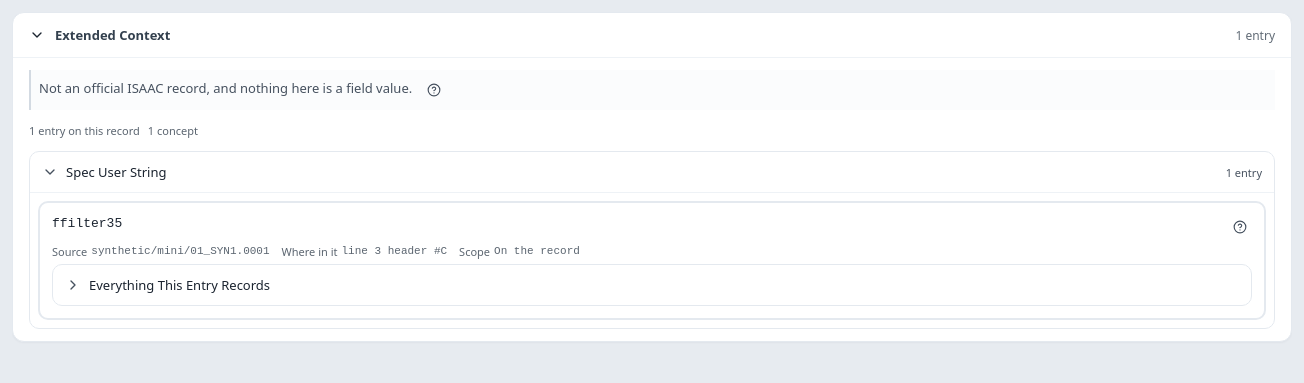
Test case: the default reading is the scientist’s words, and nothing is lost › the registry’s reason is behind the entry’s `?`, verbatim, not in the default reading
Check: the text "Spec User String" is shown, box x1=66 y1=163 x2=166 y2=181
Check: the text "REFUSED ON PURPOSE, AND THIS IS THE ONE ENTRY THAT WOULD BE HARMFUL TO FIX." is not shown
Click the button named "About This Entry" at (1240, 227), box x1=1228 y1=215 x2=1252 y2=239
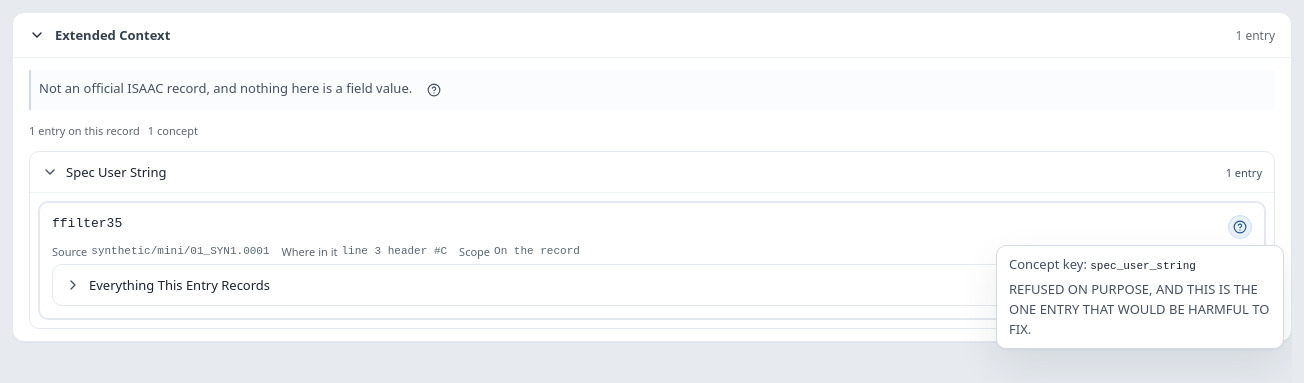
Check: the text "REFUSED ON PURPOSE, AND THIS IS THE ONE ENTRY THAT WOULD BE HARMFUL TO FIX." is shown, box x1=1009 y1=279 x2=1271 y2=340
